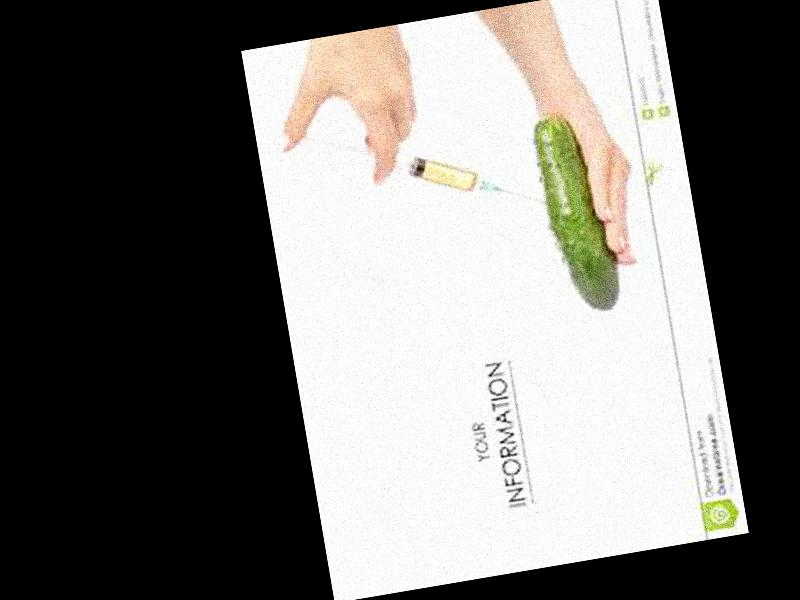Cucumber: (531, 110, 623, 317)
